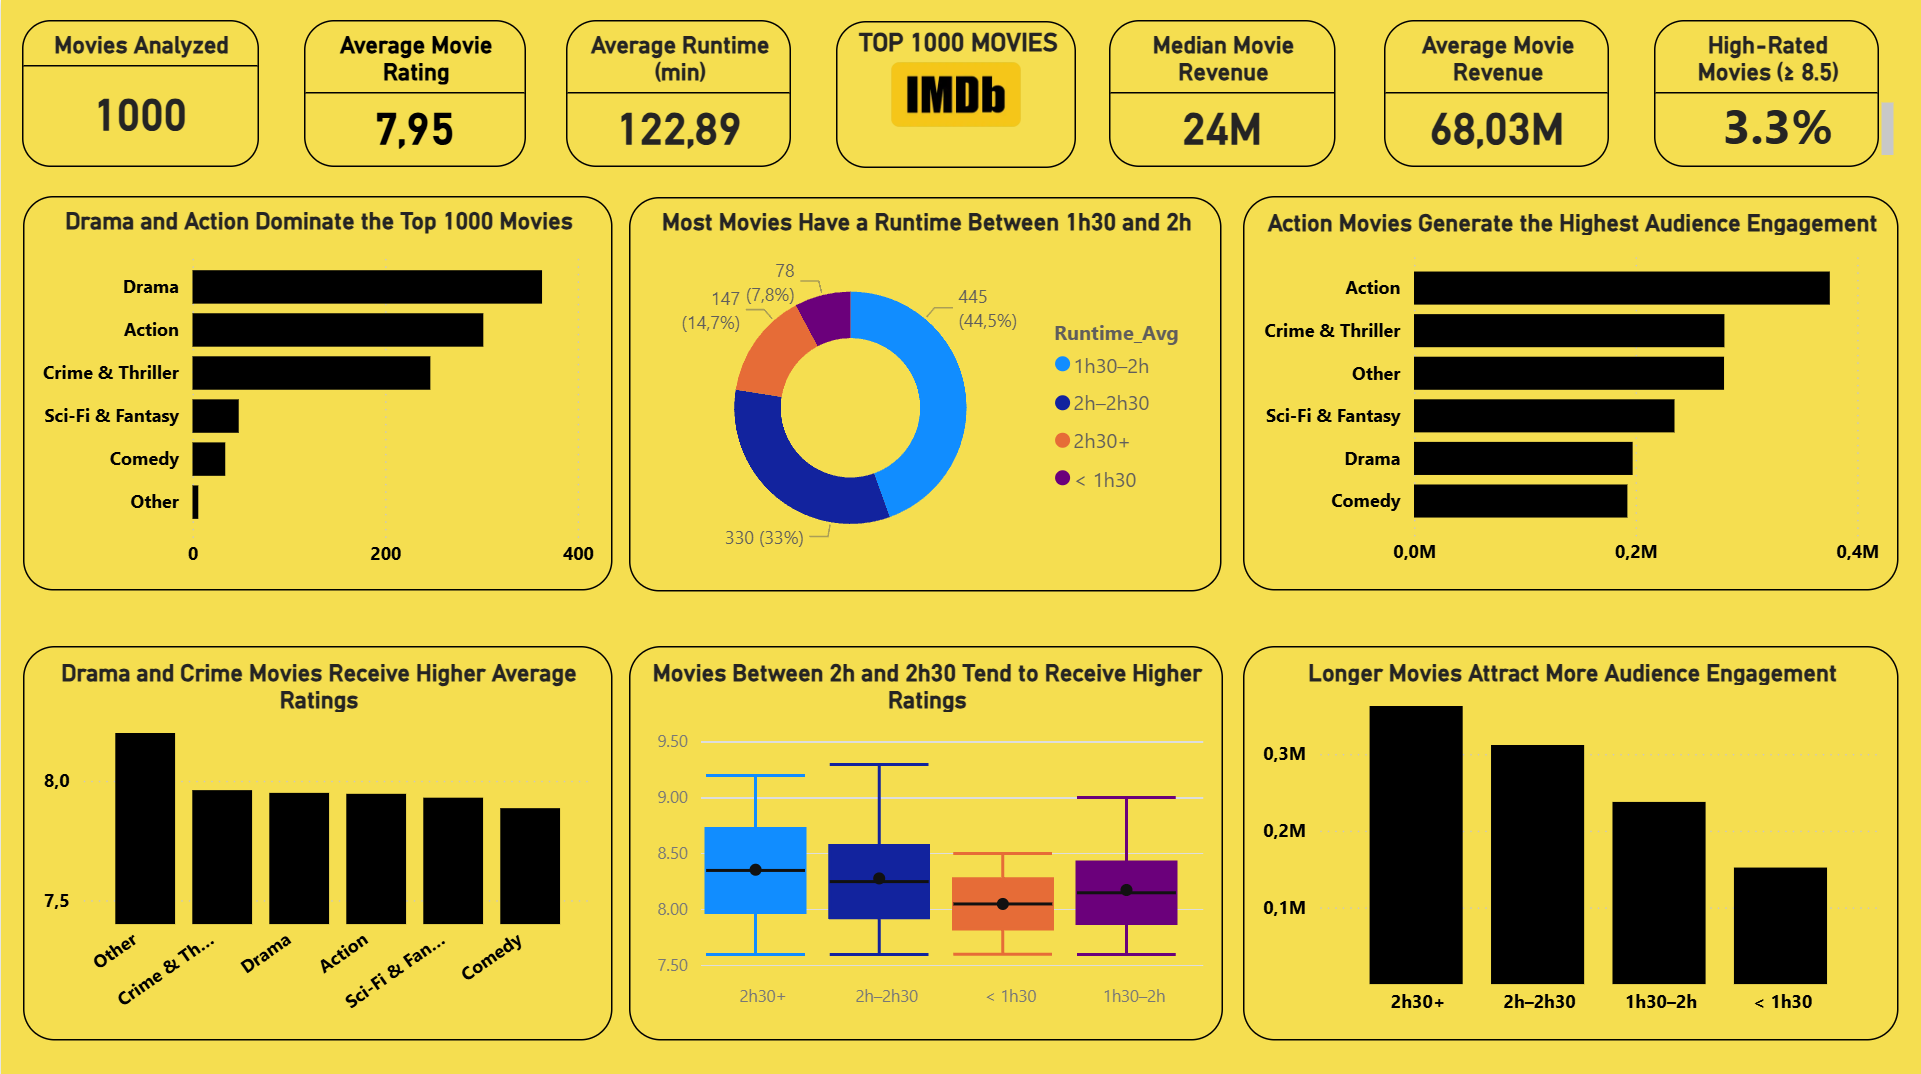

Layout of this report page (visuals, bound fields, positions):
{"tool":"powerbi","page":{"name":"Overview","canvas":[1280,720],"ordinal":0},"visuals":[{"type":"card","title":"Movies Analyzed","fields":{"Values":["CountNonNull(IMDB.Movies)"]},"box":[14.2,13.6,157.5,97.8],"z":0},{"type":"card","title":"Average Runtime (min)","fields":{"Values":["Avg(IMDB.Runtime)"]},"box":[376.5,13.6,150.3,97.8],"z":1000},{"type":"card","title":"Average Movie Rating","fields":{"Values":["Avg(IMDB.IMDB_Rating)"]},"box":[201.9,13.6,147.7,97.8],"z":2000},{"type":"clusteredBarChart","title":"Action Movies Generate the Highest Audience Engagement","fields":{"Category":["IMDB.Main_Genre"],"Y":["Avg(IMDB.No_of_Votes)"]},"box":[828.2,130.6,437.4,263.4],"z":3000},{"type":"clusteredBarChart","title":"Drama and Action Dominate the Top 1000 Movies","fields":{"Category":["IMDB.Main_Genre"],"Y":["CountNonNull(IMDB.Movies)"]},"box":[14.9,130.6,392.8,263.4],"z":4000},{"type":"image","title":"TOP 1000","box":[556.3,13.5,159.5,97.8],"z":5000,"group":"g1"},{"type":"card","title":"Median Movie Revenue","fields":{"Values":["Median(IMDB.Gross)"]},"box":[738.6,13.6,150.7,97.9],"z":5000},{"type":"card","title":"High-Rated Movies (≥ 8.5)","fields":{"Values":["CountNonNull(IMDB.IMDB_Rating)"]},"box":[1102.1,13.6,150,97.9],"z":5000,"group":"g2"},{"type":"donutChart","title":"Most Movies Have a Runtime Between 1h30 and 2h","fields":{"Category":["IMDB.Runtime_Avg"],"Y":["CountNonNull(IMDB.Series_Title)"]},"box":[418.5,131.4,395.3,263.1],"z":6000},{"type":"columnChart","title":"Drama and Crime Movies Receive Higher Average Ratings","fields":{"Category":["IMDB.Main_Genre"],"Y":["Avg(IMDB.IMDB_Rating)"]},"box":[14.9,431,392.8,263.4],"z":7000},{"type":"group","id":"g1","title":"Group 1","box":[556.3,12.4,159.5,98.9],"z":8000},{"type":"BoxWhiskerChart1455240051538","title":"Movies Between 2h and 2h30 Tend to Receive Higher Ratings","fields":{"Groups":["IMDB.Runtime_Avg"],"Values":["Avg(IMDB.IMDB_Rating)"],"Samples":["IMDB.IMDB_Rating"]},"box":[418.5,431,395.9,263.4],"z":9000},{"type":"textbox","box":[560.3,12.4,155,37.1],"z":9002,"group":"g1"},{"type":"columnChart","title":"Longer Movies Attract More Audience Engagement","fields":{"Category":["IMDB.Runtime_Avg"],"Y":["Avg(IMDB.No_of_Votes)"]},"box":[828.2,431,437.4,263.4],"z":10000},{"type":"group","id":"g2","title":"Group 2","box":[1102.1,13.6,164.2,97.9],"z":11000},{"type":"card","title":"Average Movie Revenue","fields":{"Values":["Avg(IMDB.Gross)"]},"box":[922,13.6,150.3,97.8],"z":12000},{"type":"textbox","box":[1142.7,59.6,123.6,48.6],"z":12000,"group":"g2"}]}

Visuals, with their boxes in screenshot pixels (x1, y1, x2, y2), scaled from the page's 1280x720 canvas onto the 1921x1074 screenshot:
"Movies Analyzed" card: BBox(21, 20, 258, 166)
"Average Runtime (min)" card: BBox(565, 20, 791, 166)
"Average Movie Rating" card: BBox(303, 20, 525, 166)
"Action Movies Generate the Highest Audience Engagement" clusteredBarChart: BBox(1243, 195, 1899, 588)
"Drama and Action Dominate the Top 1000 Movies" clusteredBarChart: BBox(22, 195, 612, 588)
"TOP 1000" image: BBox(835, 20, 1074, 166)
"Median Movie Revenue" card: BBox(1108, 20, 1335, 166)
"High-Rated Movies (≥ 8.5)" card: BBox(1654, 20, 1879, 166)
"Most Movies Have a Runtime Between 1h30 and 2h" donutChart: BBox(628, 196, 1221, 588)
"Drama and Crime Movies Receive Higher Average Ratings" columnChart: BBox(22, 643, 612, 1036)
"Group 1" group: BBox(835, 18, 1074, 166)
"Movies Between 2h and 2h30 Tend to Receive Higher Ratings" BoxWhiskerChart1455240051538: BBox(628, 643, 1222, 1036)
textbox: BBox(841, 18, 1074, 74)
"Longer Movies Attract More Audience Engagement" columnChart: BBox(1243, 643, 1899, 1036)
"Group 2" group: BBox(1654, 20, 1900, 166)
"Average Movie Revenue" card: BBox(1384, 20, 1609, 166)
textbox: BBox(1715, 89, 1900, 161)
